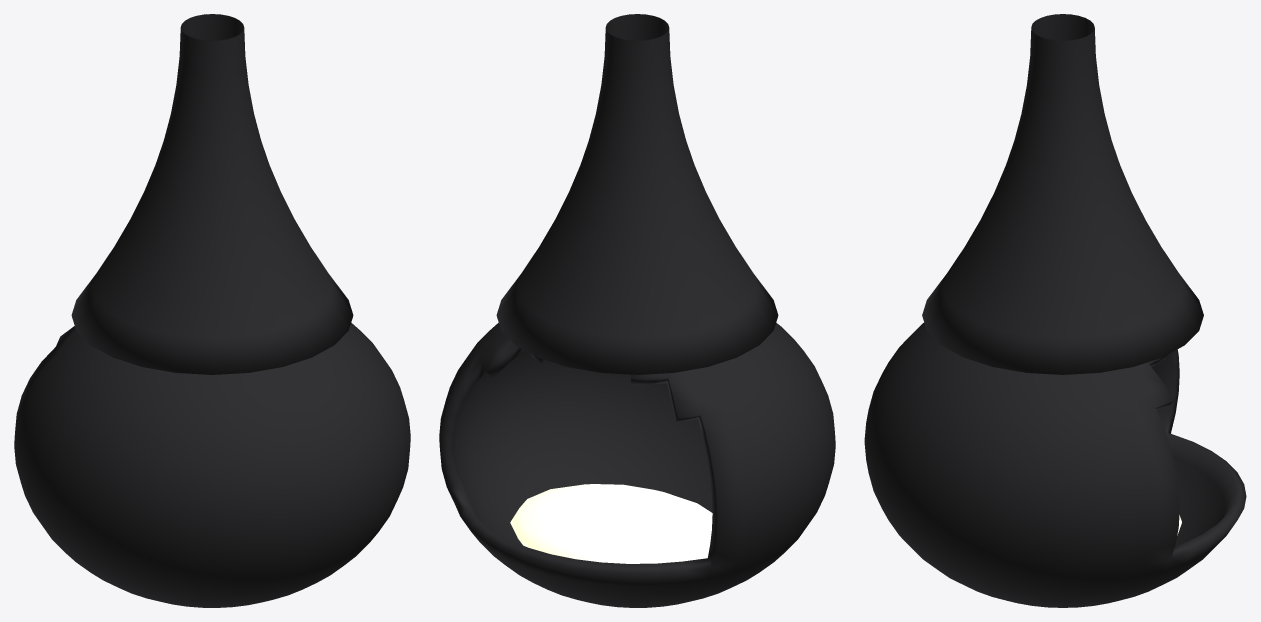
File: Fireplace.fbx
3 views of the same model, side by side, from view 1: azimuth 30°, elevation 25°; view 2: azimuth 150°, elevation 25°; view 3: azimuth 270°, elevation 25° (orthographic).
Visible parts, largest first — view 1: Fireplace; view 2: Fireplace; view 3: Fireplace.
Boxes of the visible parts, x1,y1,x2,y2 form: Fireplace: (14,14,410,607); Fireplace: (439,14,835,607); Fireplace: (864,14,1246,607).
Bounding box in the file's own units: 2 × 3.1 × 1.92.
